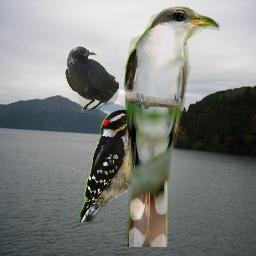Crow: (65, 46, 119, 111)
Cuckoo: (122, 5, 220, 247)
Woodpecker: (79, 108, 161, 222)
